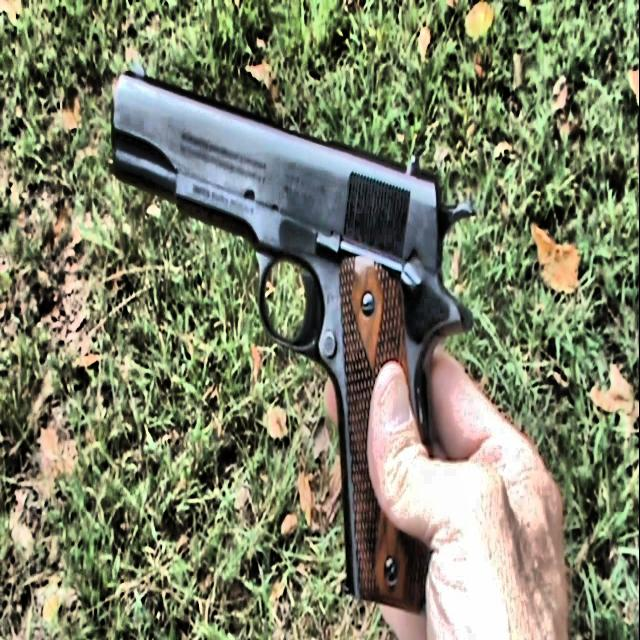Colt m1911: (110, 66, 476, 614)
